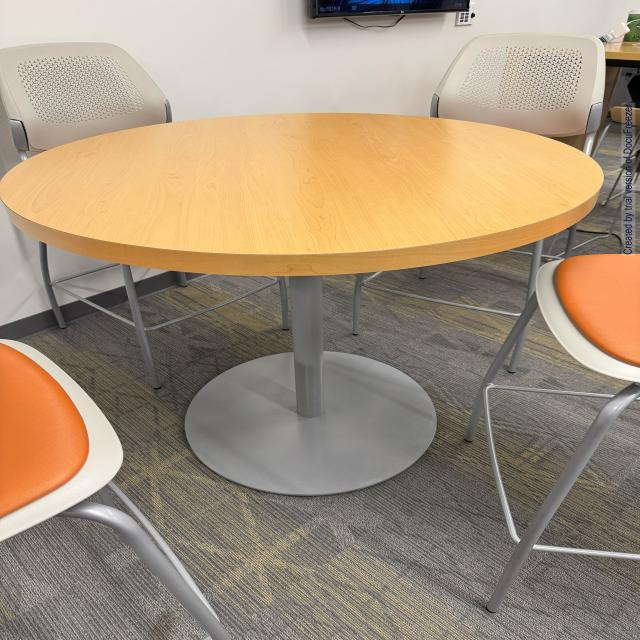Table: (0, 102, 610, 516)
chair: (5, 34, 190, 181)
